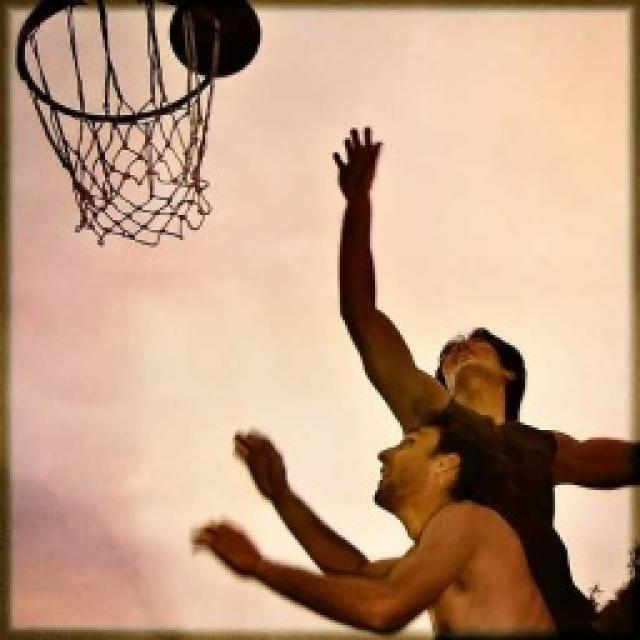rim: (163, 0, 269, 83)
